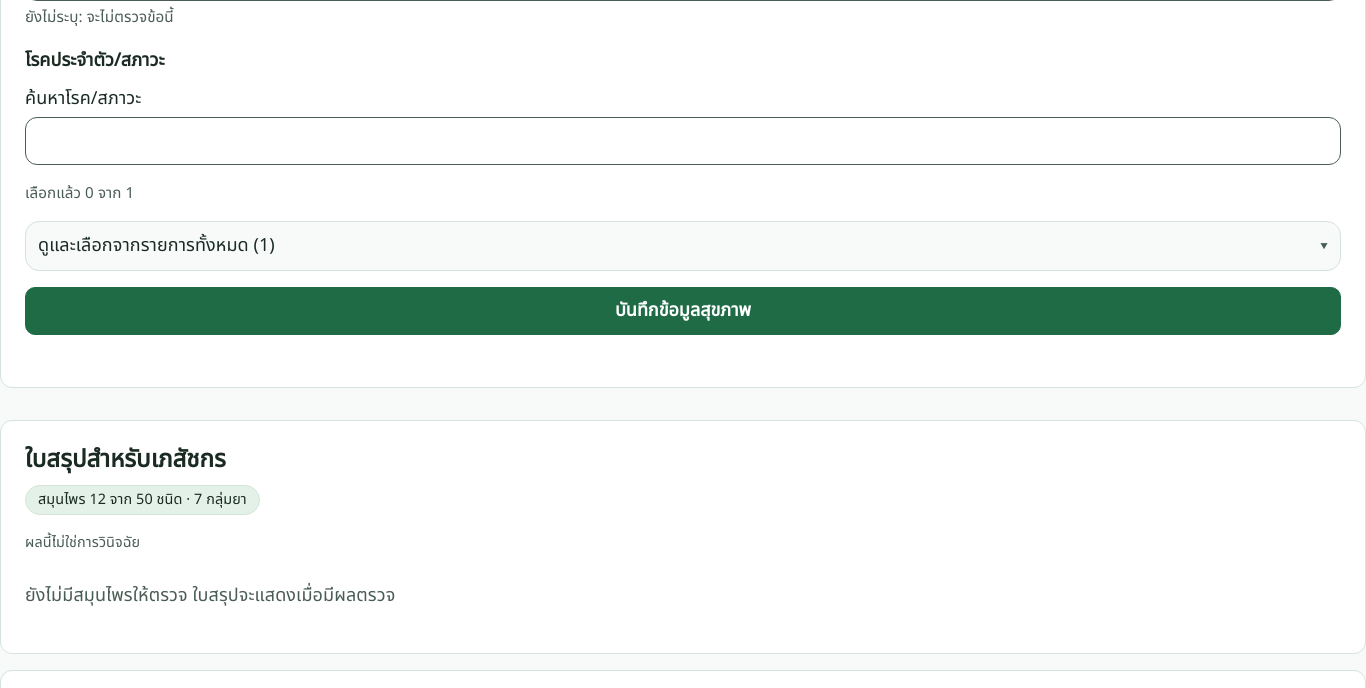
Test: โปรไฟล์ › ตั้งครรภ์เป็น select 3 ค่า ไม่มี checkbox; ค่าเริ่ม ไม่ระบุ ไม่ส่งคีย์ pregnant; เปลี่ยนเป็น ไม่ใช่ ส่ง false
(page scrolled)
Click the button "บันทึกข้อมูลสุขภาพ".
click(683, 311)  # box [25, 287, 1341, 335]
(page scrolled)
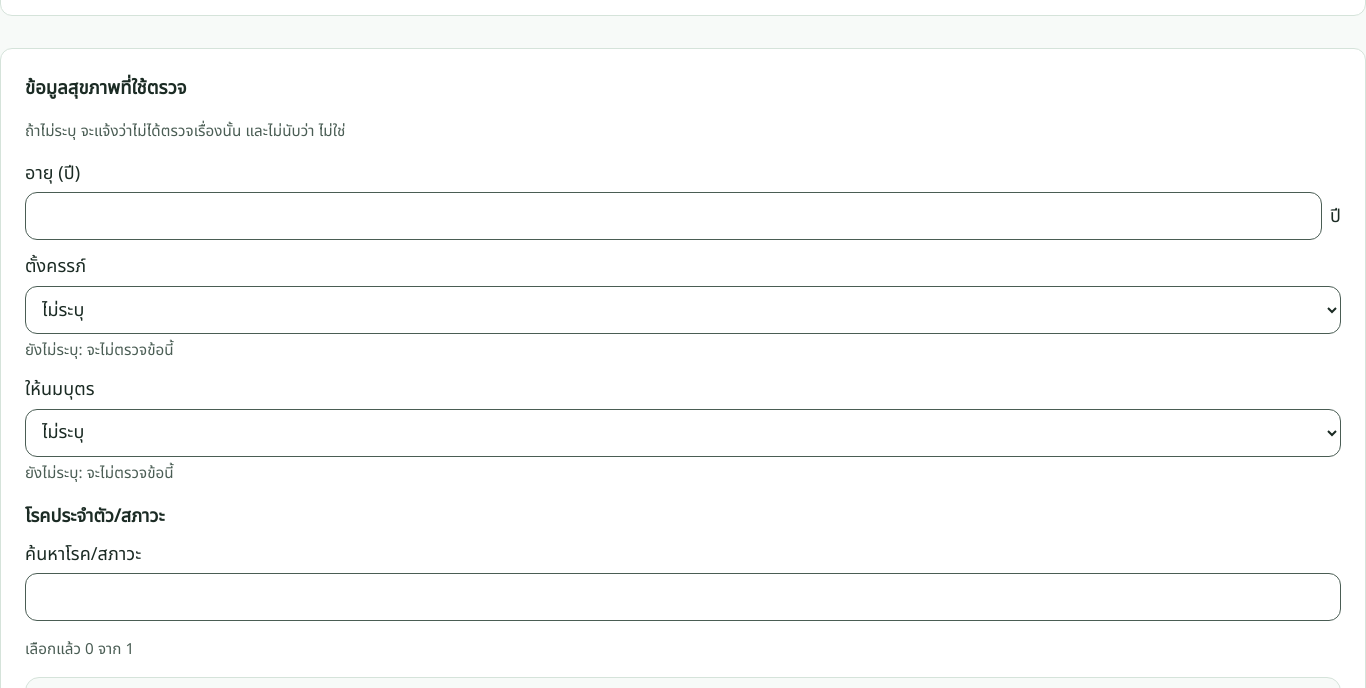
Select "ไม่ใช่" in the dropdown labelled "ตั้งครรภ์" at (683, 310), box [25, 286, 1341, 334]
(page scrolled)
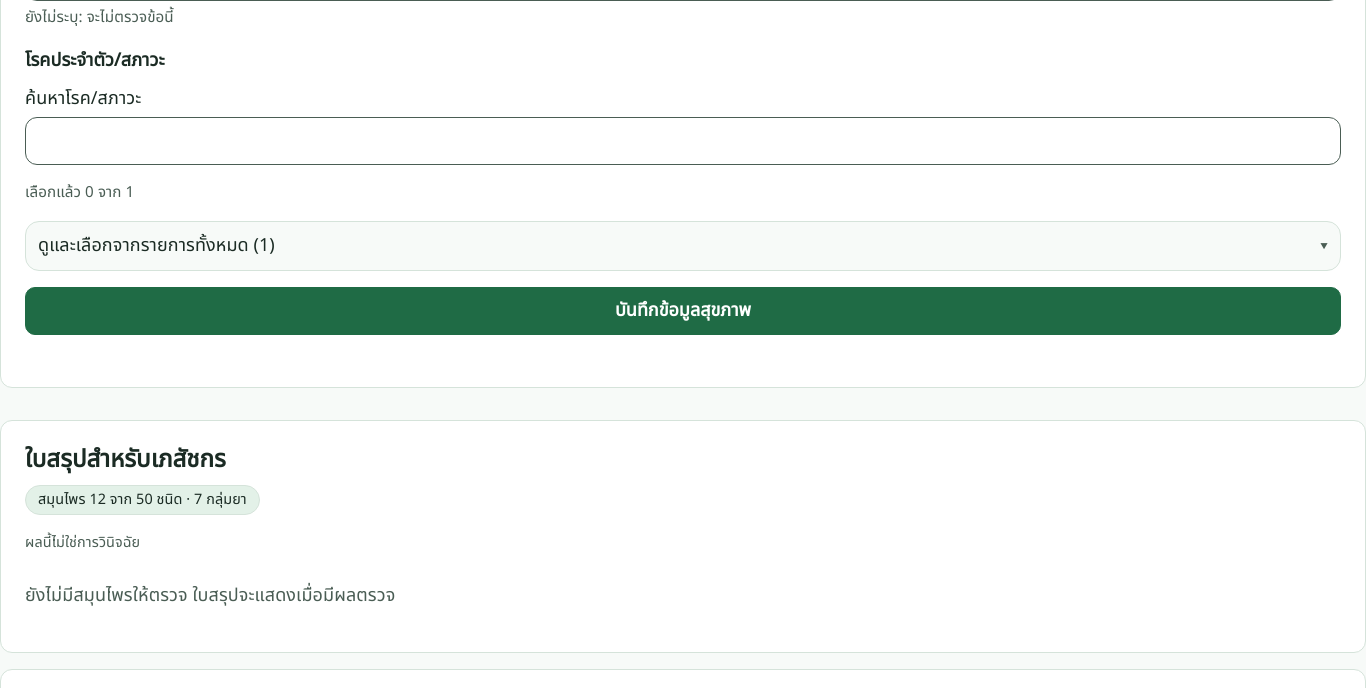
Click the button "บันทึกข้อมูลสุขภาพ".
click(683, 311)  # box [25, 287, 1341, 335]
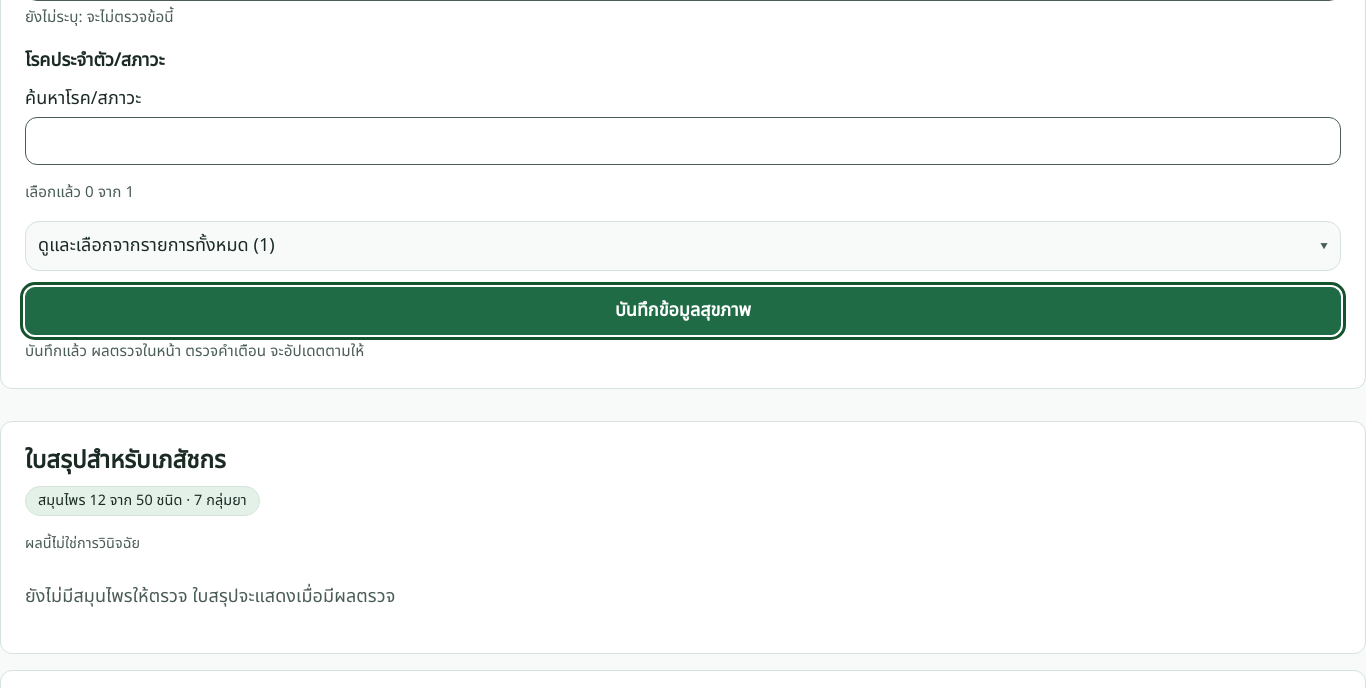
expect the text "บันทึกแล้ว ผลตรวจในหน้า ตรวจคำเตือน จะอัปเดตตามให้" is shown: met, box [25, 340, 364, 363]
